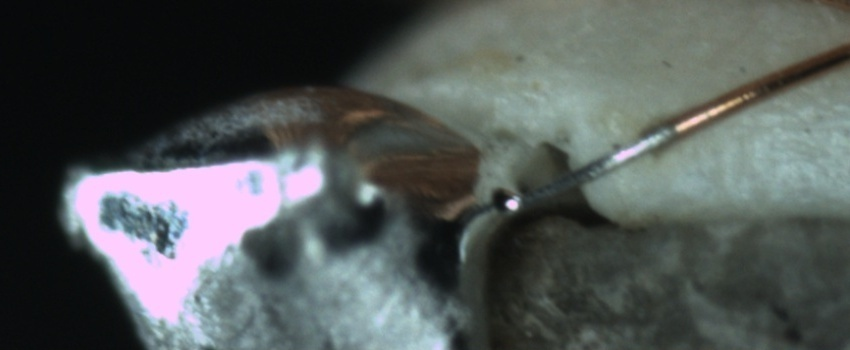DL: (751, 84, 849, 151)
TS: (499, 124, 676, 216)
